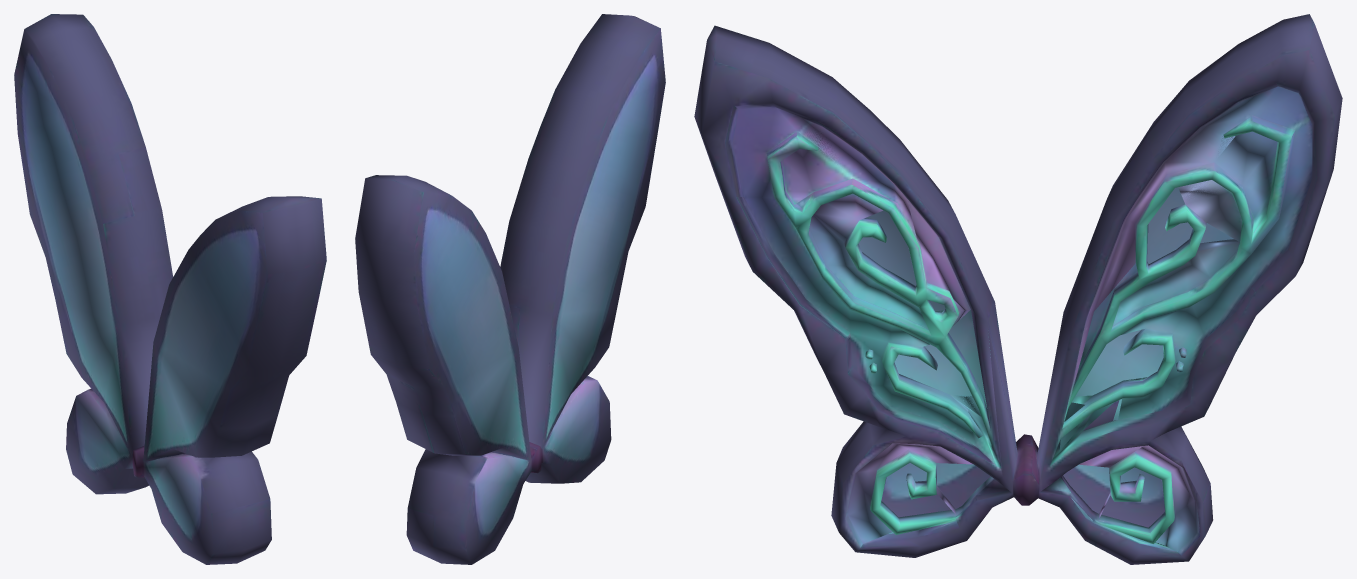
File: hover_butterfly_wings.glb
The picture shows the model from 3 angles, left to right: view 1: azimuth 30°, elevation 25°; view 2: azimuth 150°, elevation 25°; view 3: azimuth 270°, elevation 25°; orthographic projection. The views are drawn at different scales.
Visible parts, largest first — view 1: wing.l, wing.r; view 2: wing.l, wing.r; view 3: wing.r, wing.l.
Boxes of the visible parts, <box> form: wing.l: <box>14,14,299,564</box>; wing.r: <box>51,14,326,563</box>; wing.l: <box>382,15,665,564</box>; wing.r: <box>355,14,630,563</box>; wing.r: <box>694,23,1342,564</box>; wing.l: <box>707,14,1314,527</box>.
Size of the model in its own units: 0.2059 by 1.3 by 1.44.
1 material, 1 textured.
